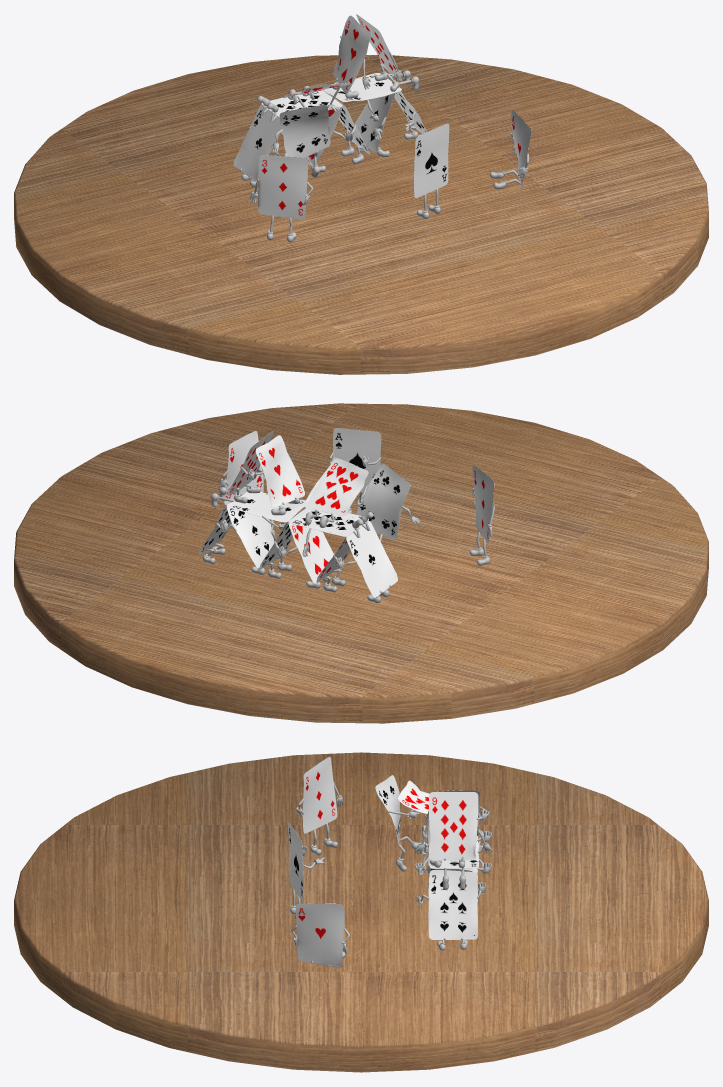
File: 3December2020_Day03_Cards.fbx
3 renders of one model, top to bottom at view 1: azimuth 30°, elevation 25°; view 2: azimuth 150°, elevation 25°; view 3: azimuth 270°, elevation 25°, orthographic.
Visible parts, largest first — view 1: Circle, Card.016, Card.015, Card.004, Card.013, Card, Card.011, Card.009, Card.003, Card.008, Card.012, Card.007 (+2 smaller); view 2: Circle, Card.014, Card.015, Card.013, Card, Card.004, Card.009, Card.006, Card.016, Card.011, Card.008, Card.003 (+4 smaller); view 3: Circle, Card.012, Card.010, Card.003, Card.016, Card.015, Card.004, Card.011, Card.014.
Boxes of the visible parts, bbox=[...] form: Circle: bbox=[14, 55, 708, 374]; Card.016: bbox=[250, 155, 313, 242]; Card.015: bbox=[271, 104, 330, 177]; Card.004: bbox=[412, 123, 449, 218]; Card.013: bbox=[332, 15, 371, 98]; Card: bbox=[233, 104, 281, 186]; Card.011: bbox=[322, 70, 418, 121]; Card.009: bbox=[354, 93, 394, 157]; Card.003: bbox=[490, 110, 531, 189]; Card.008: bbox=[257, 90, 342, 121]; Card.012: bbox=[356, 14, 402, 91]; Card.007: bbox=[324, 91, 370, 164]; Circle: bbox=[14, 403, 708, 723]; Card.014: bbox=[304, 458, 368, 527]; Card.015: bbox=[356, 464, 420, 541]; Card.013: bbox=[248, 435, 304, 515]; Card: bbox=[336, 521, 397, 603]; Card.004: bbox=[329, 428, 381, 513]; Card.009: bbox=[222, 502, 275, 574]; Card.006: bbox=[279, 523, 334, 588]; Card.016: bbox=[469, 465, 494, 565]; Card.011: bbox=[211, 487, 305, 529]; Card.008: bbox=[288, 508, 373, 556]; Card.003: bbox=[219, 431, 265, 504]; Circle: bbox=[14, 752, 708, 1072]; Card.012: bbox=[424, 792, 489, 867]; Card.010: bbox=[416, 870, 485, 950]; Card.003: bbox=[291, 903, 349, 967]; Card.016: bbox=[296, 756, 343, 855]; Card.015: bbox=[375, 775, 425, 871]; Card.004: bbox=[288, 822, 324, 919]; Card.011: bbox=[418, 841, 482, 889]; Card.014: bbox=[398, 780, 429, 838].
Size of the model in its own units: 90 by 22.75 by 90.
